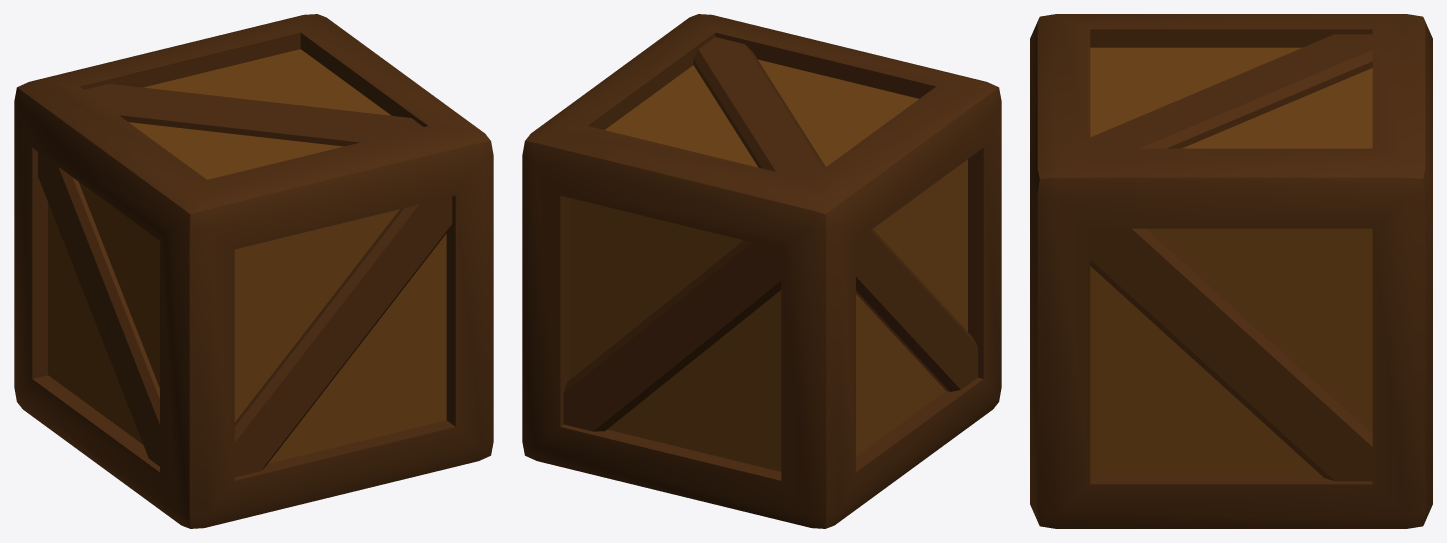
Rendered from Cube_Crate.obj.
The picture shows the model from 3 angles, left to right: view 1: azimuth 30°, elevation 25°; view 2: azimuth 150°, elevation 25°; view 3: azimuth 270°, elevation 25°; orthographic projection. The views are drawn at different scales.
Visible parts, largest first — view 1: Cube_Crate_Cube.038; view 2: Cube_Crate_Cube.038; view 3: Cube_Crate_Cube.038.
Boxes of the visible parts, x1=… form: Cube_Crate_Cube.038: x1=14, y1=14, x2=493, y2=528; Cube_Crate_Cube.038: x1=522, y1=14, x2=1001, y2=528; Cube_Crate_Cube.038: x1=1030, y1=14, x2=1432, y2=528.
Size of the model in its own units: 2.02 by 2.02 by 2.02.
